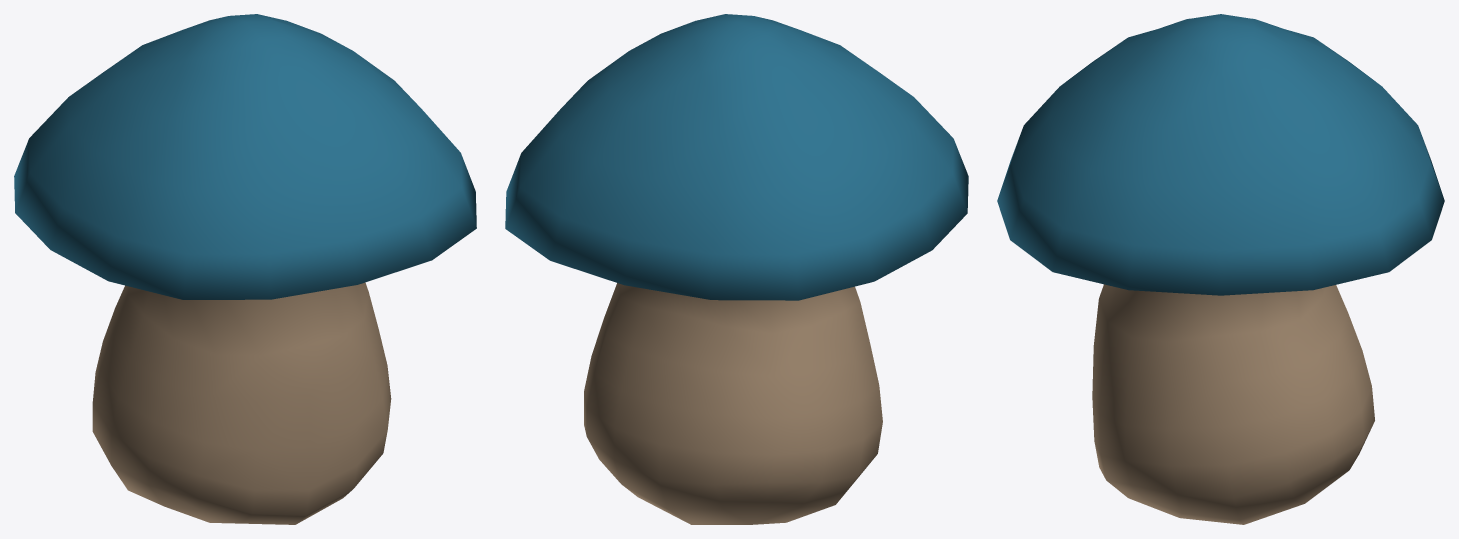
Rendered from mushroom.gltf.
3 renders of one model, left to right at view 1: azimuth 30°, elevation 25°; view 2: azimuth 150°, elevation 25°; view 3: azimuth 270°, elevation 25°, orthographic.
Visible parts, largest first — view 1: Mushroom; view 2: Mushroom; view 3: Mushroom.
Boxes of the visible parts, box(x1,y1,x2,y2) form: Mushroom: box(14, 14, 476, 524); Mushroom: box(505, 14, 968, 524); Mushroom: box(997, 14, 1444, 524).
Size of the model in its own units: 2.75 by 3.3 by 2.75.
